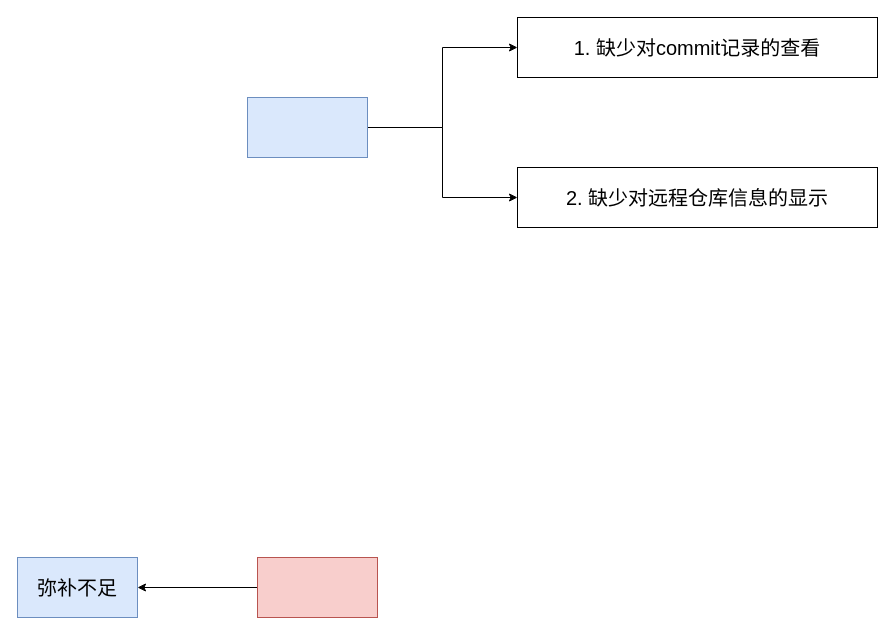
Some shapes in this 895 by 635 pixel diagram are drawn without their labels. Each missing label, with the centre of its shape:
不足: (x=307, y=127)
扩展: (x=317, y=587)
